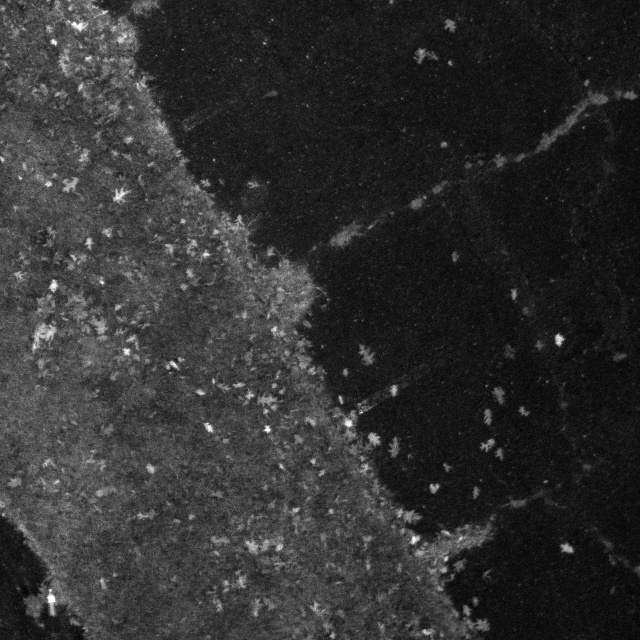bottle: (40, 584, 61, 620)
